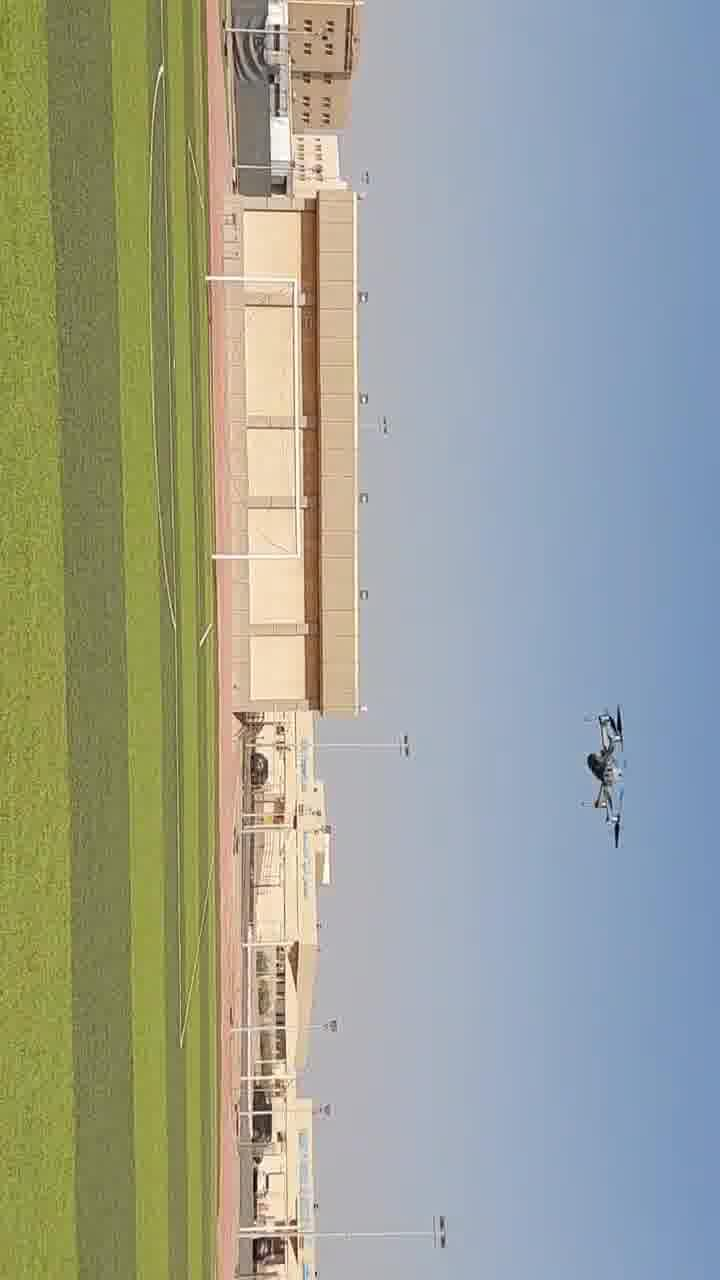drone: (391, 158, 481, 260)
